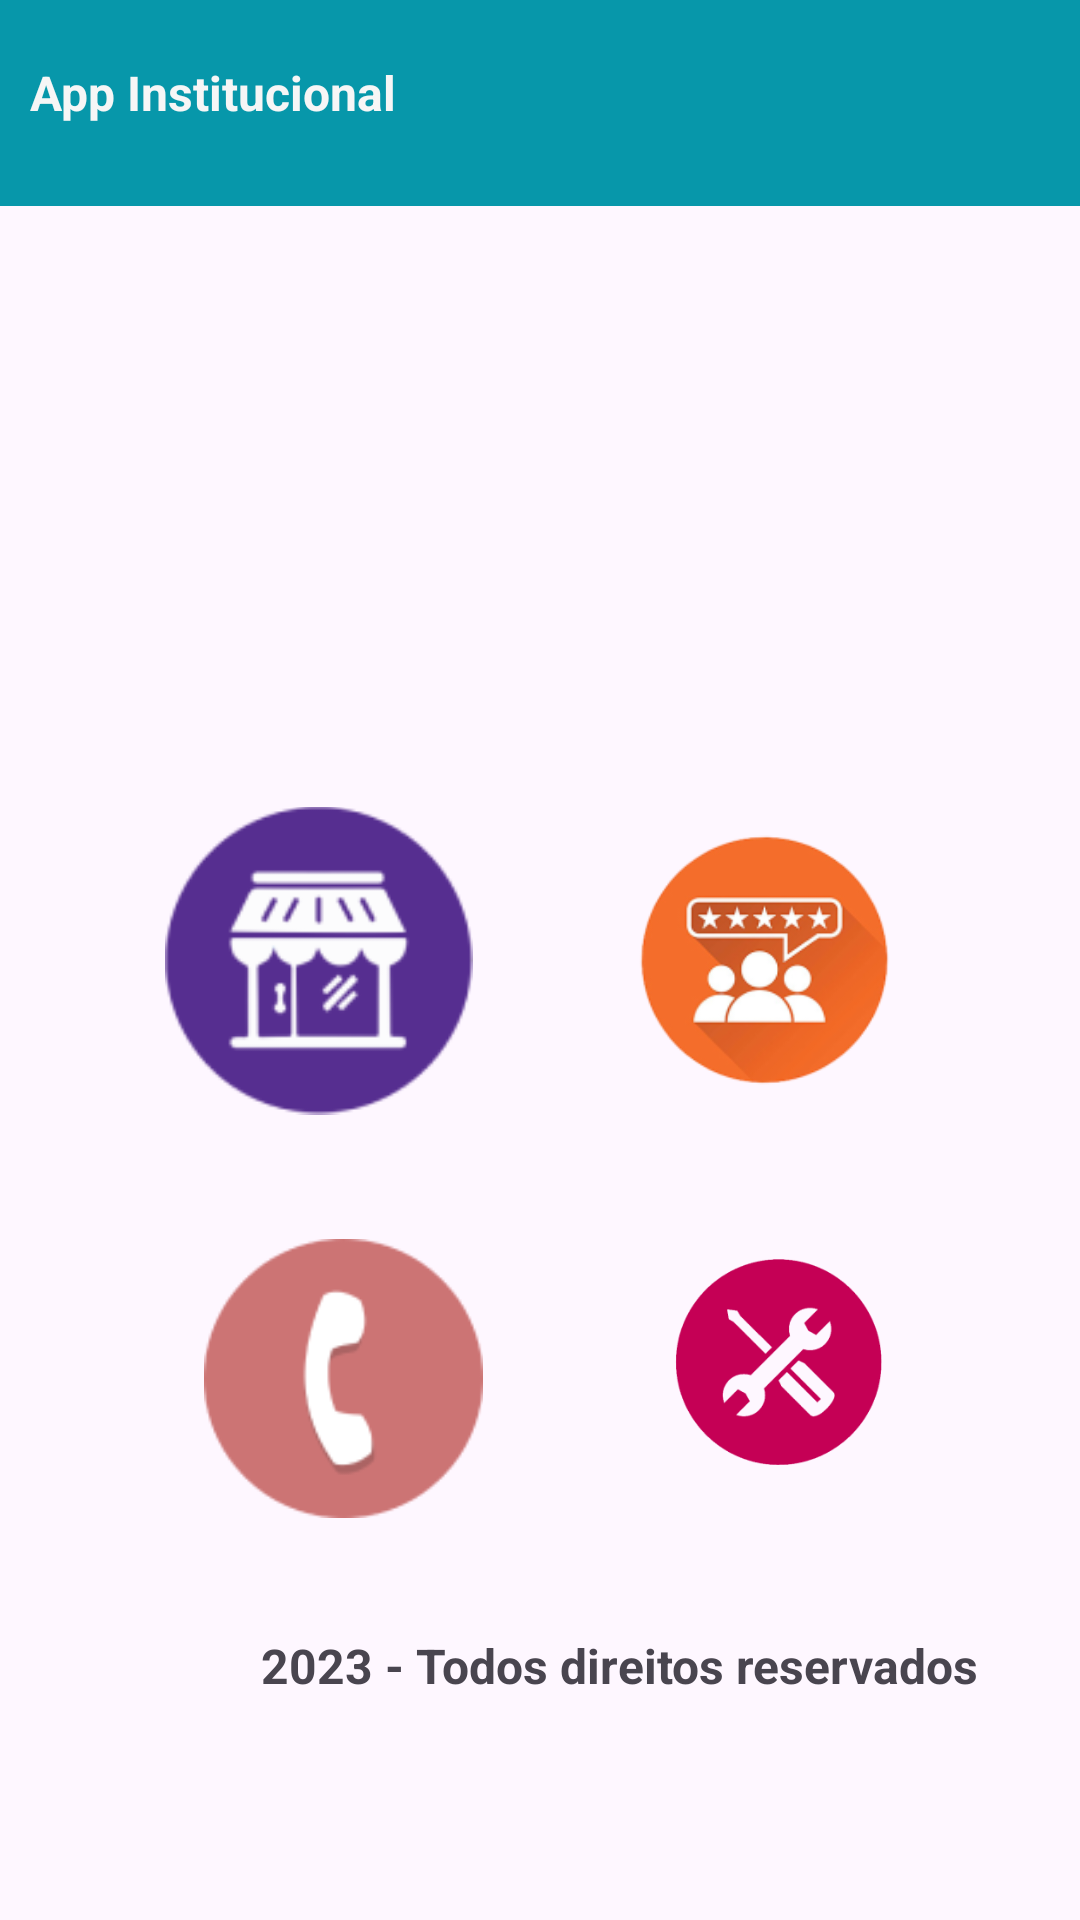

Screen size 1080px x 1920px. Icon name, then its box in pixels as (x1, y1, x2, y2):
cliente: (641, 837, 888, 1083)
contato: (204, 1239, 483, 1518)
empresa: (165, 807, 473, 1115)
servico: (676, 1259, 882, 1465)
